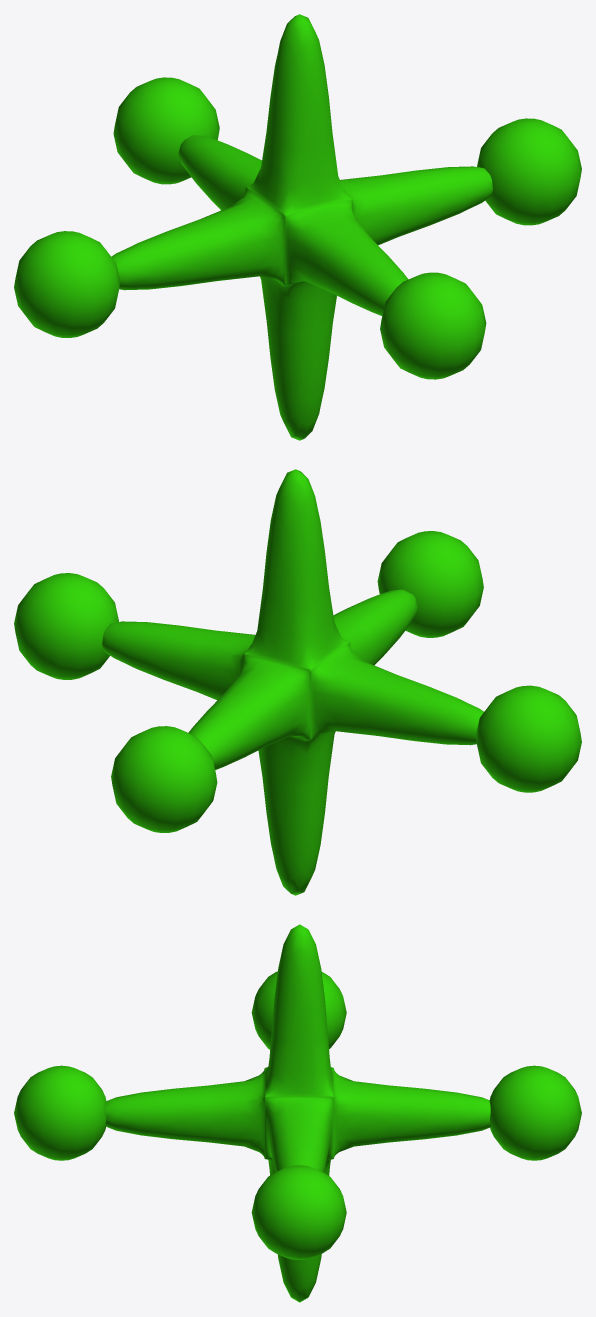
Rendered from 4pointJack.fbx.
The picture shows the model from 3 angles, top to bottom: view 1: azimuth 30°, elevation 25°; view 2: azimuth 150°, elevation 25°; view 3: azimuth 270°, elevation 25°; orthographic projection. The views are drawn at different scales.
Parts seen in each view (by area): view 1: Cube.001; view 2: Cube.001; view 3: Cube.001.
Boxes of the visible parts, box(x1,y1,x2,y2) form: Cube.001: box(14, 14, 581, 440); Cube.001: box(14, 469, 581, 895); Cube.001: box(14, 924, 581, 1302).
Bounding box in the file's own units: 139 × 102 × 139.
